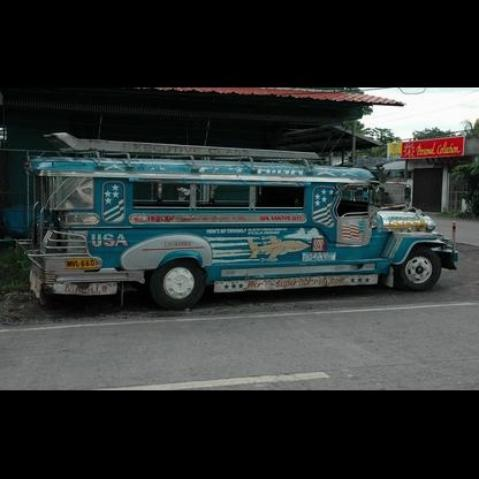jeepney: (16, 126, 468, 317)
